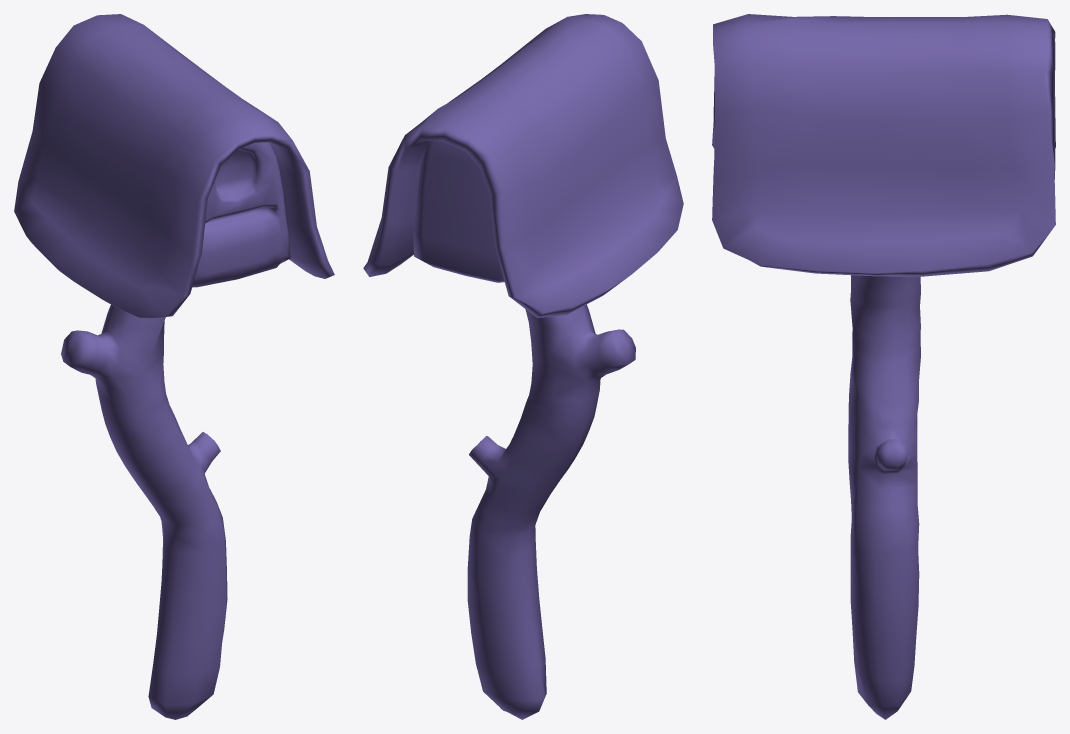
The model's file is correo.fbx.
3 renders of one model, left to right at view 1: azimuth 30°, elevation 25°; view 2: azimuth 150°, elevation 25°; view 3: azimuth 270°, elevation 25°, orthographic. The views are drawn at different scales.
Parts seen in each view (by area): view 1: HongoCorreo_lp, troncoCorreo_lp, casitaCorreo_lp; view 2: HongoCorreo_lp, troncoCorreo_lp, casitaCorreo_lp; view 3: HongoCorreo_lp, troncoCorreo_lp.
Boxes of the visible parts, x1,y1,x2,y2 form: HongoCorreo_lp: (14,14,334,319); troncoCorreo_lp: (61,304,227,719); casitaCorreo_lp: (192,142,290,287); HongoCorreo_lp: (363,14,683,318); troncoCorreo_lp: (467,304,635,719); casitaCorreo_lp: (413,141,504,282); HongoCorreo_lp: (712,14,1055,276); troncoCorreo_lp: (848,275,920,719).
Size of the model in its own units: 42.86 by 126 by 56.53.
